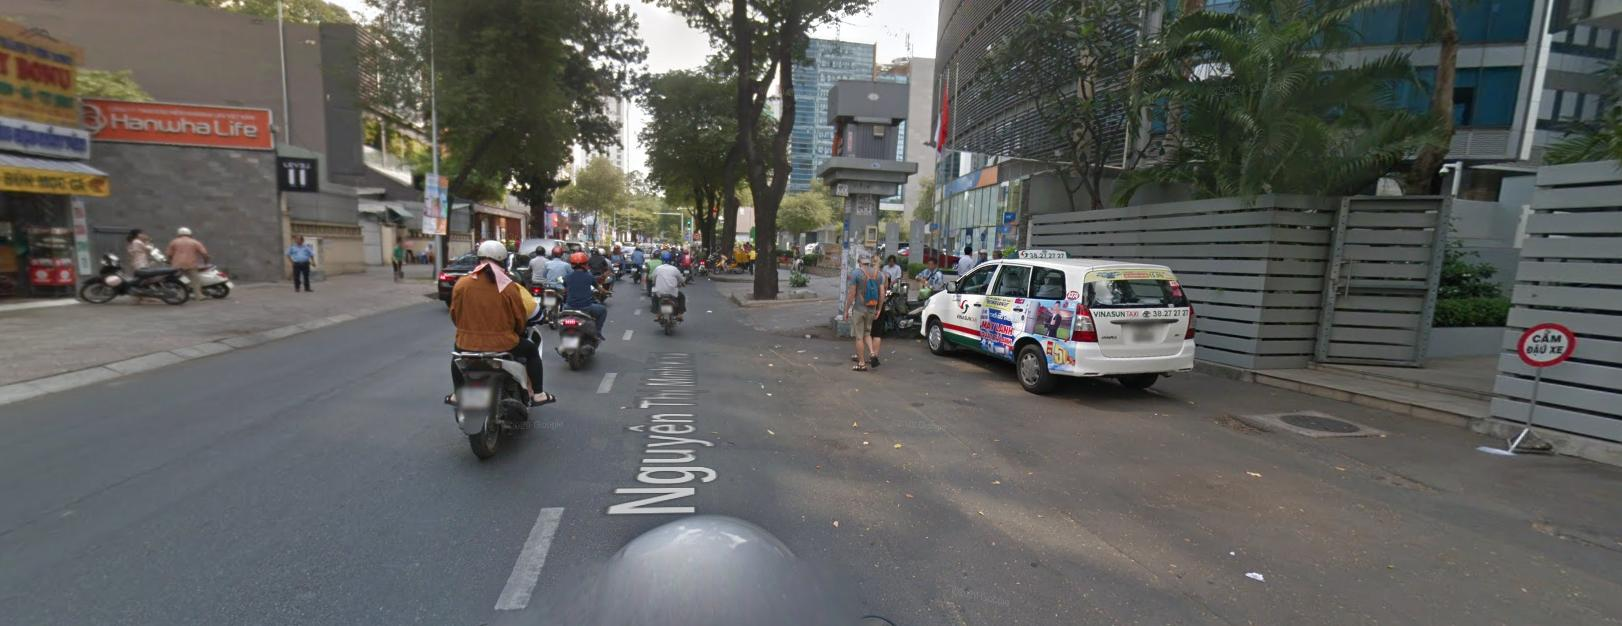Cam con lai: (1516, 321, 1576, 366)
